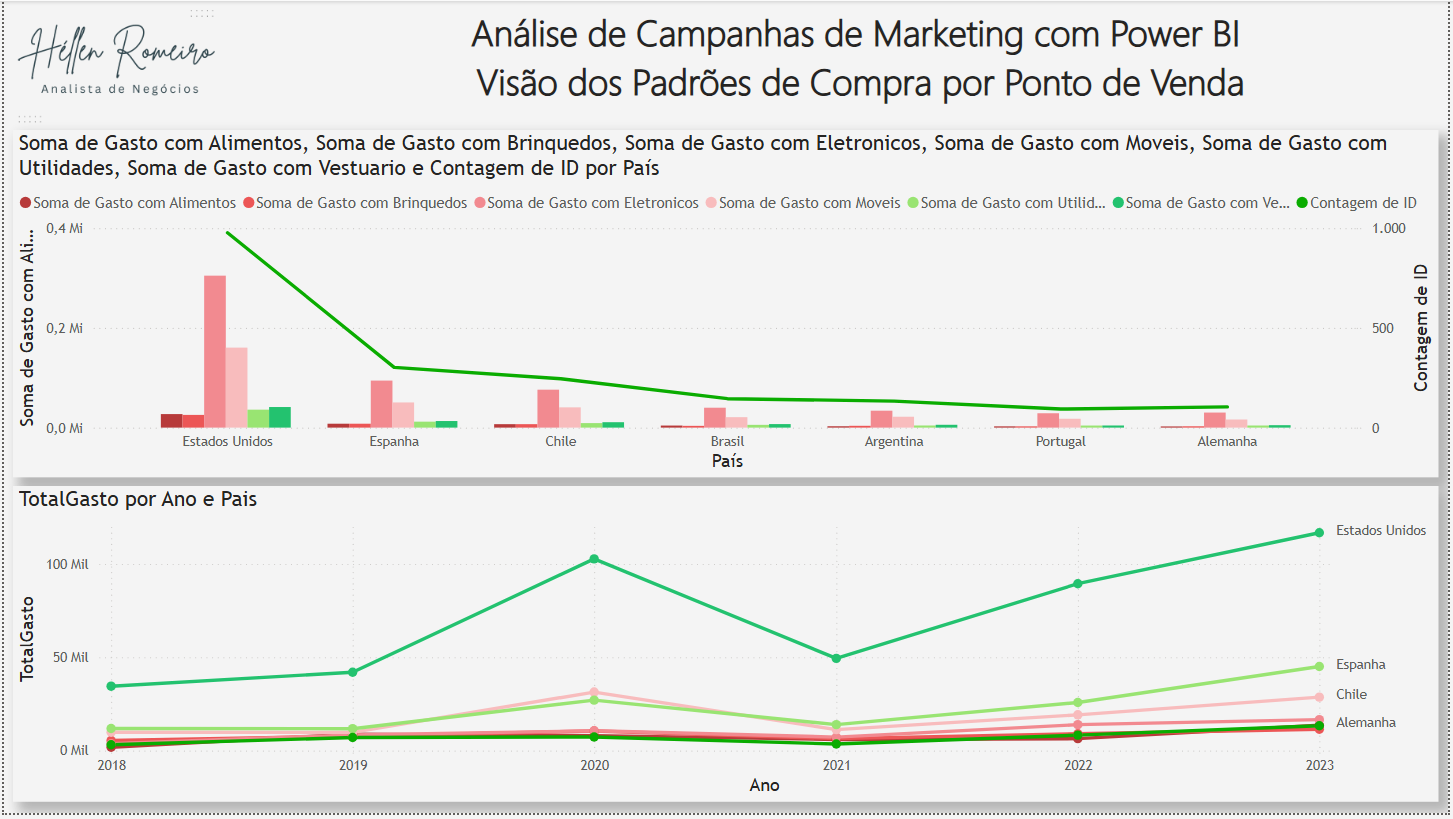

This screenshot's page, from the dashboard's own definition file:
{"tool":"powerbi","page":{"name":"Visão Ponto de Vendas","canvas":[1280,720],"ordinal":3},"visuals":[{"type":"lineClusteredColumnComboChart","fields":{"Category":["dados_marketing.Pais"],"Y":["Sum(dados_marketing.Gasto com Alimentos)","Sum(dados_marketing.Gasto com Brinquedos)","Sum(dados_marketing.Gasto com Eletronicos)","Sum(dados_marketing.Gasto com Moveis)","Sum(dados_marketing.Gasto com Utilidades)","Sum(dados_marketing.Gasto com Vestuario)"],"Y2":["CountNonNull(dados_marketing.ID)"]},"box":[8,114.6,1264,308.2],"z":0},{"type":"textbox","box":[231,0,1049,95.9],"z":1000},{"type":"lineChart","fields":{"Y":["dados_marketing.TotalGasto"],"Series":["dados_marketing.Pais"],"Category":["dados_marketing.Data Cadastro.Variation.Hierarquia de datas.Ano"]},"box":[8,429.9,1264,279.8],"z":2000},{"type":"image","box":[0,0,198.1,114.6],"z":3000}]}

Visuals, with their boxes in screenshot pixels (x1, y1, x2, y2), scaled from the page's 1280x720 canvas onto the 1453x819 screenshot:
lineClusteredColumnComboChart - dados_marketing.Pais x Sum(dados_marketing.Gasto com Alimentos): bbox=[9, 130, 1444, 481]
textbox: bbox=[262, 0, 1452, 109]
lineChart - dados_marketing.TotalGasto x dados_marketing.Pais: bbox=[9, 489, 1444, 807]
image: bbox=[0, 0, 225, 130]
